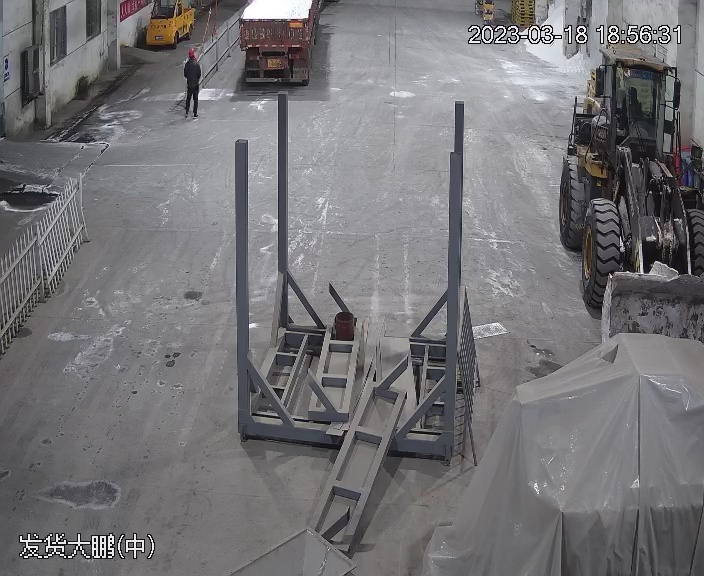head: (183, 48, 202, 70)
helmet: (187, 48, 197, 57)
people: (180, 47, 203, 119)
truck: (235, 1, 324, 85)
